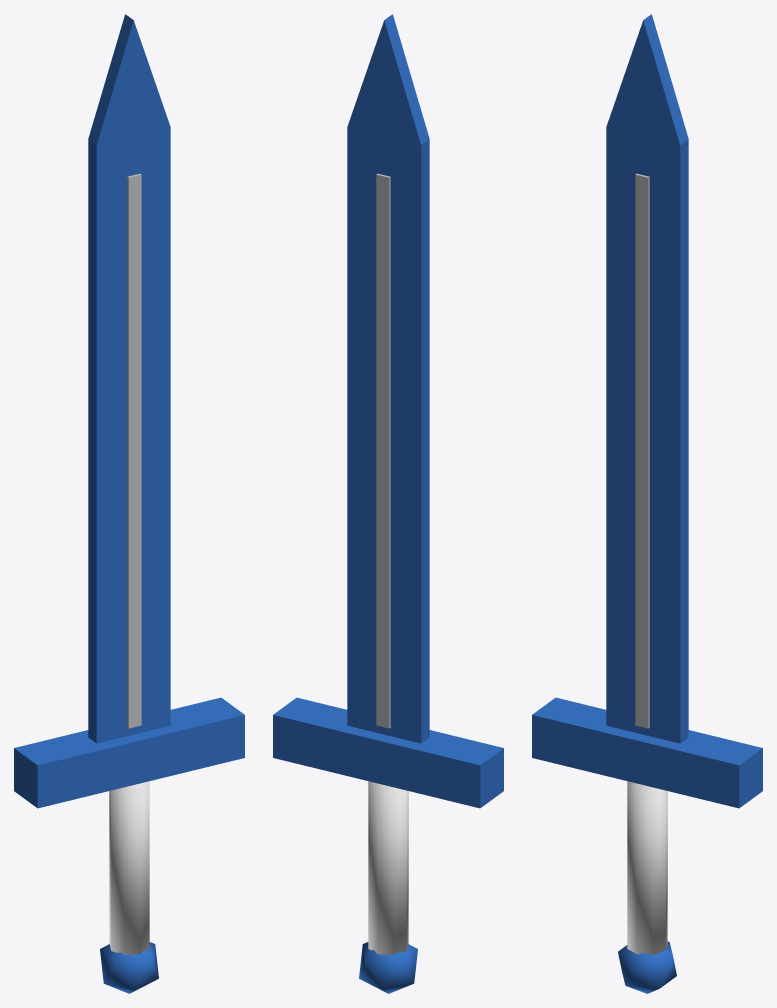
The model's file is cerulite_broadsword.glb.
3 renders of one model, left to right at view 1: azimuth 30°, elevation 25°; view 2: azimuth 150°, elevation 25°; view 3: azimuth 330°, elevation 25°, orthographic.
Parts seen in each view (by area): view 1: cerulite_broadsword_v0; view 2: cerulite_broadsword_v0; view 3: cerulite_broadsword_v0.
Part boxes in pixels (x1=…): cerulite_broadsword_v0: x1=14, y1=14, x2=244, y2=993; cerulite_broadsword_v0: x1=273, y1=14, x2=503, y2=993; cerulite_broadsword_v0: x1=532, y1=14, x2=762, y2=993.
Size of the model in its own units: 0.252 by 1.13 by 0.0595.
